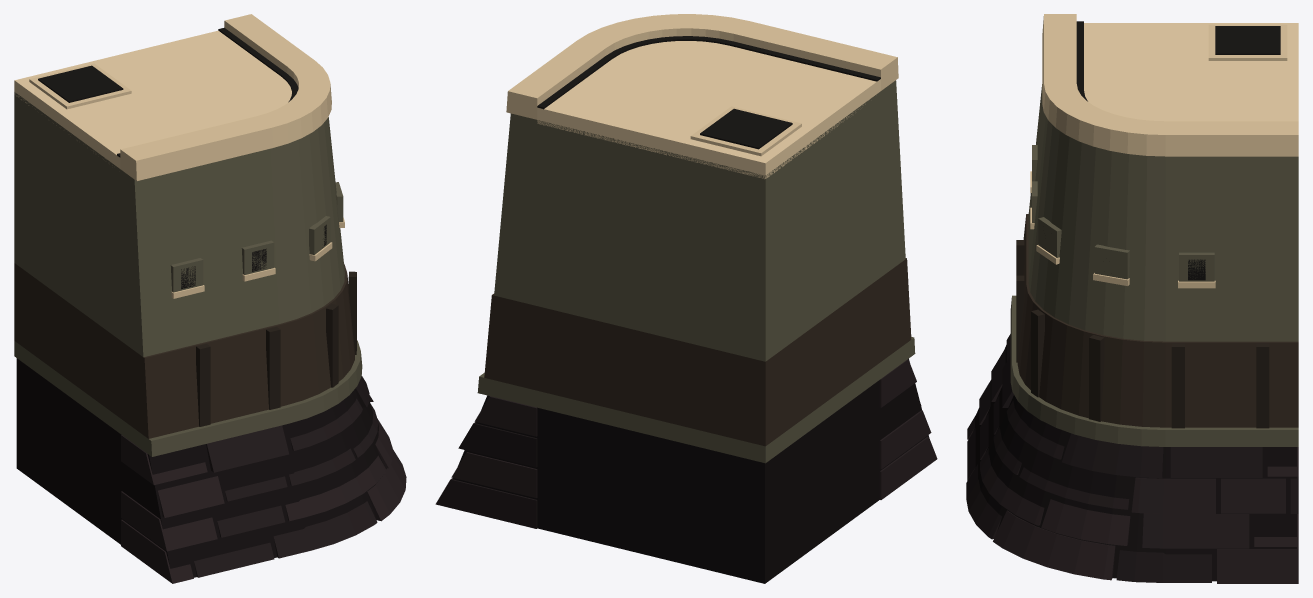
The model's file is VerTow04.glb.
3 renders of one model, left to right at view 1: azimuth 30°, elevation 25°; view 2: azimuth 150°, elevation 25°; view 3: azimuth 270°, elevation 25°, orthographic. The views are drawn at different scales.
Parts seen in each view (by area): view 1: VerTow04_mortar; view 2: VerTow04_mortar; view 3: VerTow04_mortar.
Part boxes in pixels (x1,y1,x2,y2): VerTow04_mortar: (14, 14, 406, 583); VerTow04_mortar: (435, 14, 937, 583); VerTow04_mortar: (966, 14, 1298, 583).
Size of the model in its own units: 4.49 by 5.6 by 4.06.
